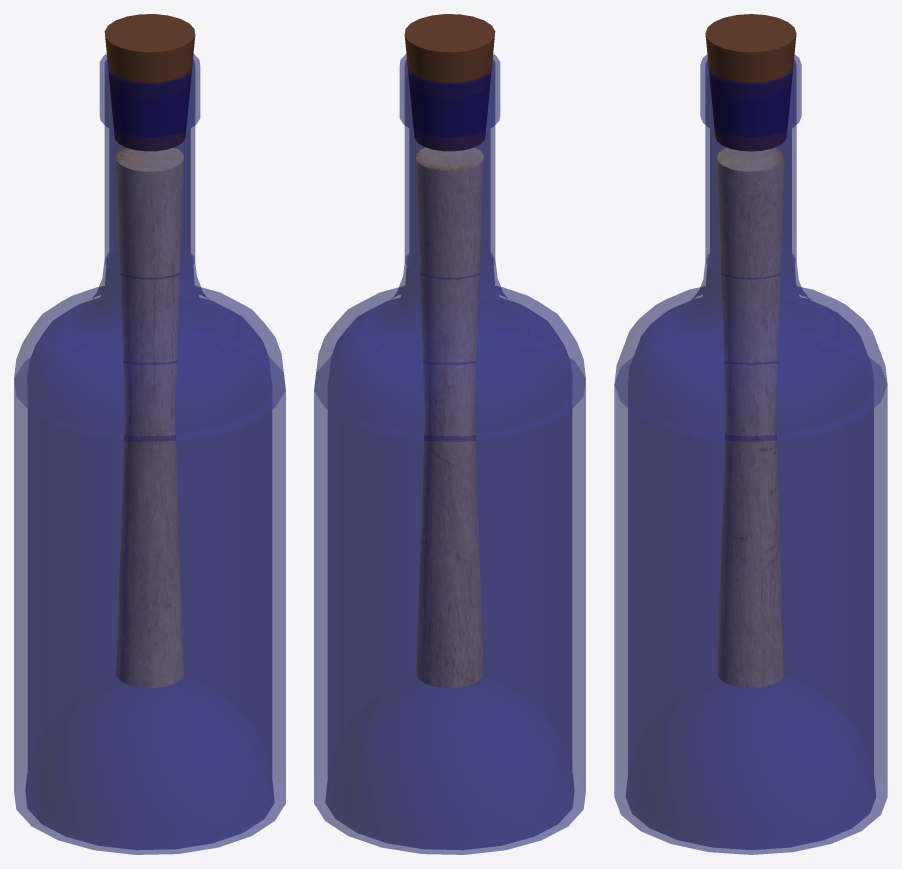
Rendered from Bottle Message.fbx.
3 views of the same model, side by side, from view 1: azimuth 30°, elevation 25°; view 2: azimuth 150°, elevation 25°; view 3: azimuth 270°, elevation 25° (orthographic).
Visible parts, largest first — view 1: polySurface9; view 2: polySurface9; view 3: polySurface9.
Part boxes in pixels (box(x1,y1,x2,y2)): polySurface9: box(14, 14, 285, 854); polySurface9: box(314, 14, 585, 854); polySurface9: box(614, 14, 887, 854).
Bounding box in the file's own units: 2.4 × 7.4 × 2.4.
Materials: 5 (1 with a texture image).
